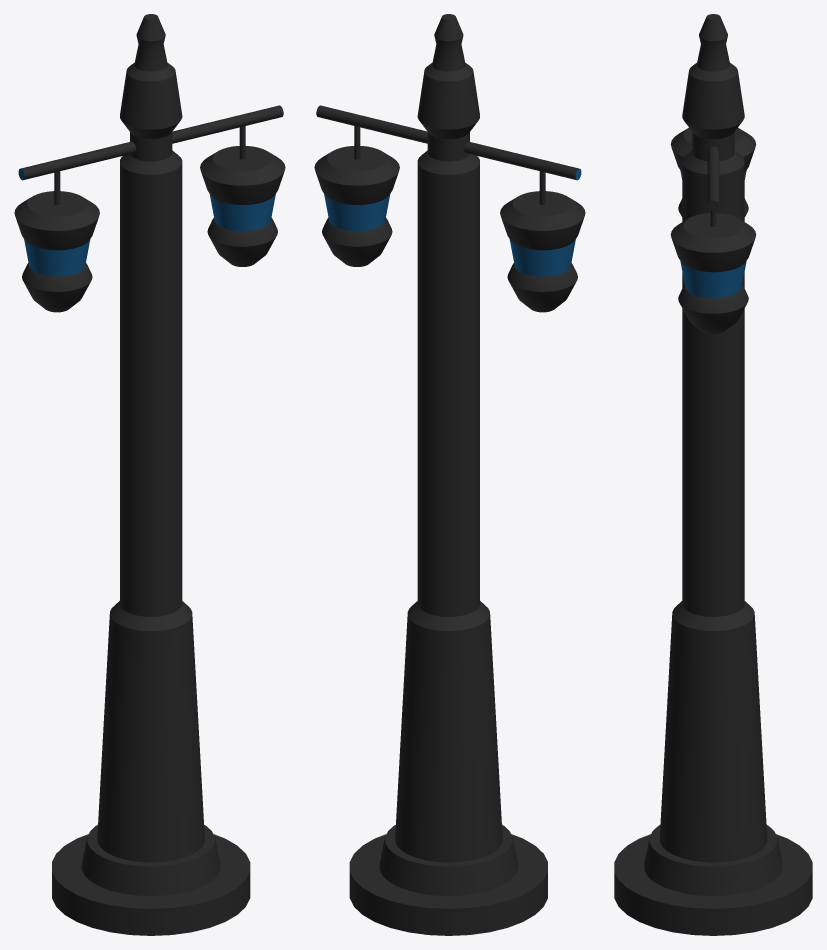
The model's file is LampPost.fbx.
The picture shows the model from 3 angles, left to right: view 1: azimuth 30°, elevation 25°; view 2: azimuth 150°, elevation 25°; view 3: azimuth 270°, elevation 25°; orthographic projection.
Visible parts, largest first — view 1: Cylinder001, Cylinder006, Cylinder004, Cylinder002; view 2: Cylinder001, Cylinder006, Cylinder004, Cylinder002; view 3: Cylinder001, Cylinder004, Cylinder006, Cylinder002.
Boxes of the visible parts, box(x1,y1,x2,y2) form: Cylinder001: box(52, 14, 250, 935); Cylinder006: box(14, 191, 99, 312); Cylinder004: box(200, 146, 285, 266); Cylinder002: box(18, 105, 283, 180); Cylinder001: box(349, 14, 547, 935); Cylinder006: box(500, 191, 585, 312); Cylinder004: box(314, 146, 399, 266); Cylinder002: box(316, 105, 581, 180); Cylinder001: box(614, 14, 812, 935); Cylinder004: box(670, 213, 756, 334); Cylinder006: box(670, 128, 756, 216); Cylinder002: box(707, 146, 719, 211).
Size of the model in its own units: 30.13 by 97 by 19.89.
